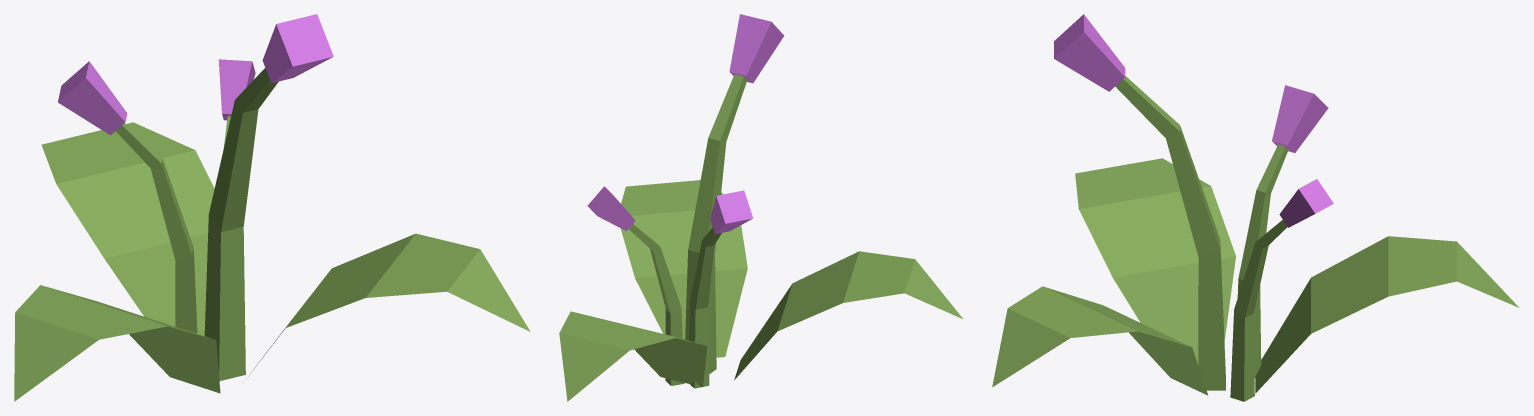
The model's file is Flower_Purlple_1.fbx.
3 views of the same model, side by side, from view 1: azimuth 30°, elevation 25°; view 2: azimuth 150°, elevation 25°; view 3: azimuth 270°, elevation 25° (orthographic). The views are drawn at different scales.
Parts seen in each view (by area): view 1: Flower_Purlple_1; view 2: Flower_Purlple_1; view 3: Flower_Purlple_1.
Part boxes in pixels (x1,y1,x2,y2): Flower_Purlple_1: (14,14,530,401); Flower_Purlple_1: (559,14,962,401); Flower_Purlple_1: (992,14,1519,401).
Bounding box in the file's own units: 51.38 × 44.05 × 57.4.
